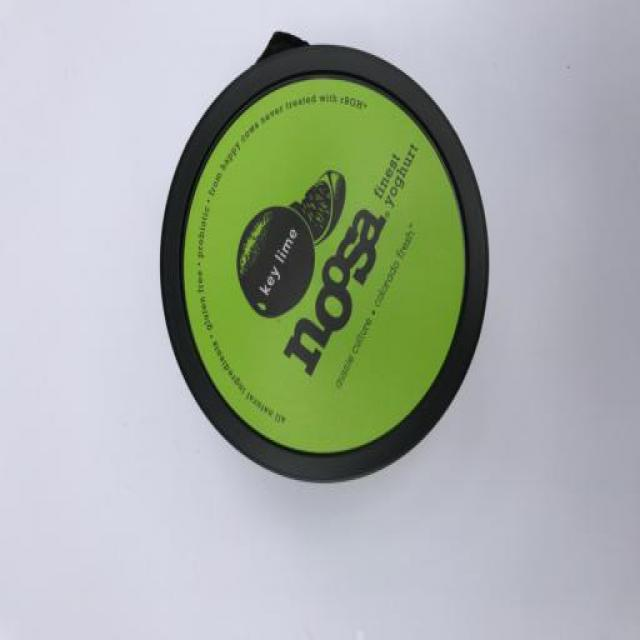Trash: (159, 29, 493, 488)
